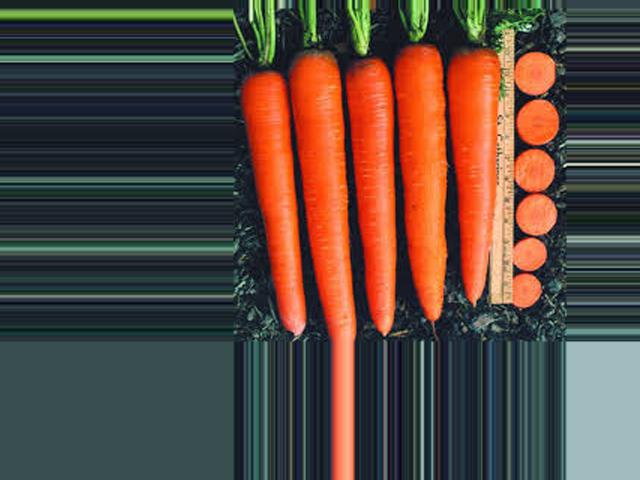carrot: (448, 24, 511, 316)
